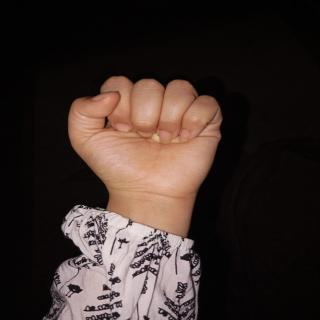SAD: (55, 70, 244, 210)
